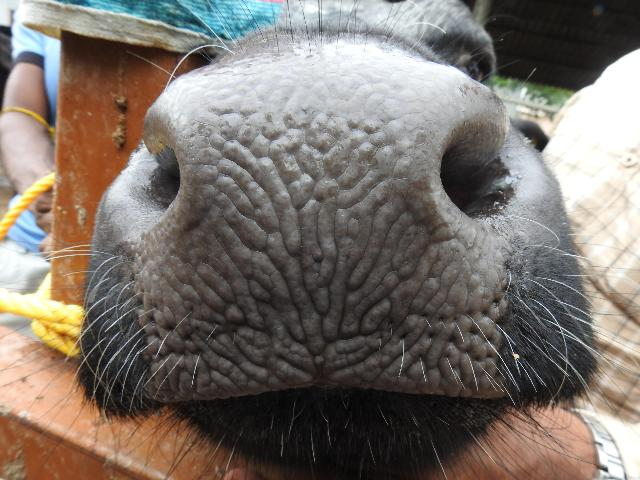Muzzle: (202, 92, 432, 384)
